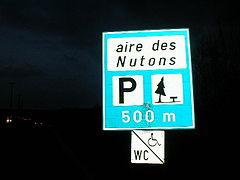Parking Lot Cars: (109, 72, 146, 107)
